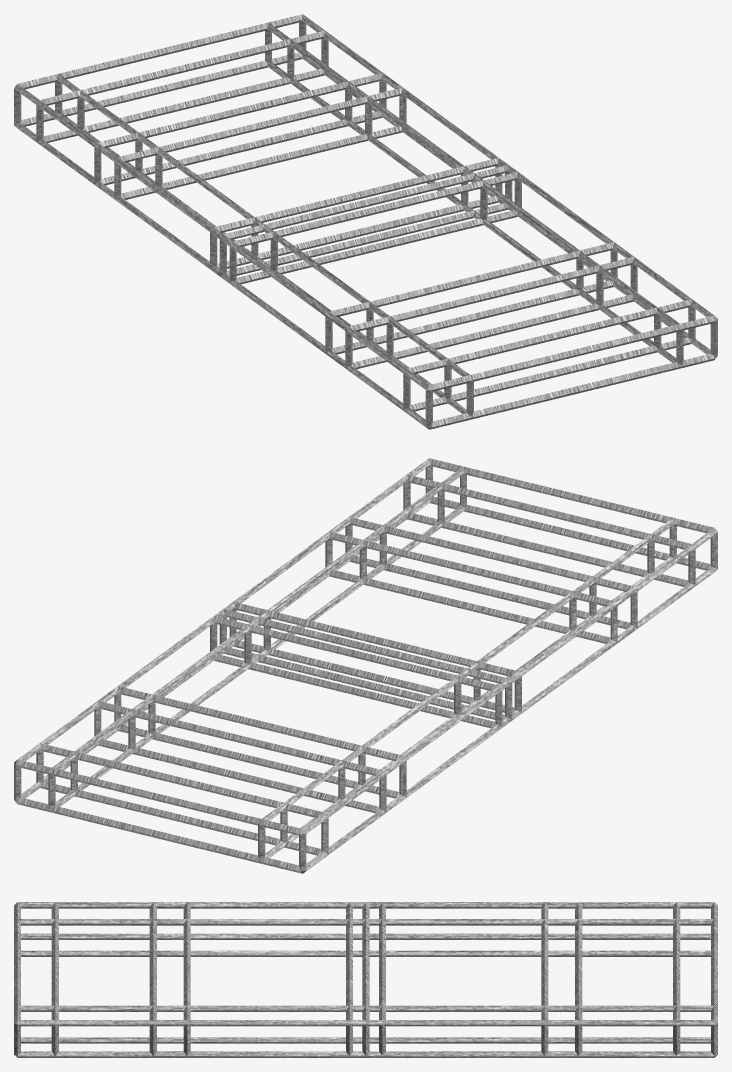
The model's file is Scaffold_Top_Proto.FBX.
3 views of the same model, one above another, from view 1: azimuth 30°, elevation 25°; view 2: azimuth 150°, elevation 25°; view 3: azimuth 270°, elevation 25° (orthographic). The views are drawn at different scales.
Visible parts, largest first — view 1: Scaffold Top; view 2: Scaffold Top; view 3: Scaffold Top.
Boxes of the visible parts, left/top/right/bottom form: Scaffold Top: left=14, top=14, right=717, bottom=429; Scaffold Top: left=14, top=458, right=717, bottom=873; Scaffold Top: left=14, top=902, right=717, bottom=1057.
Bounding box in the file's own units: 161 × 23.69 × 398.
Materials: 1 (1 with a texture image).
